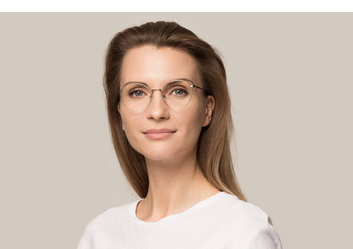glass: (113, 79, 212, 112)
mouth: (135, 122, 185, 143)
